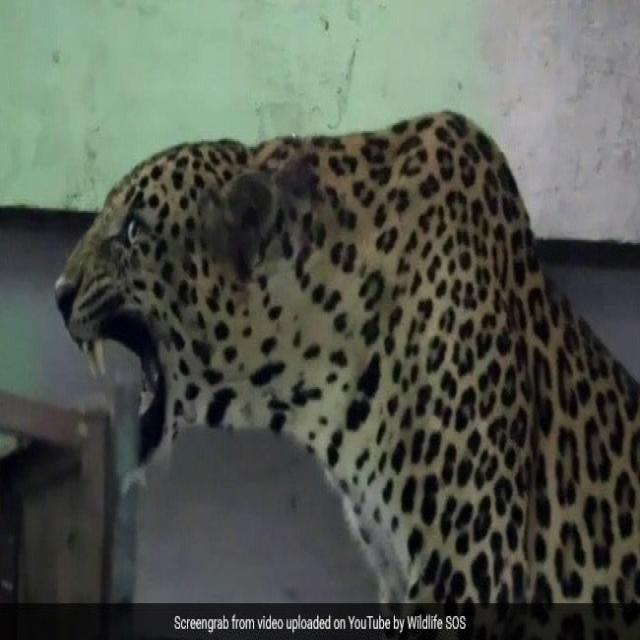Leopard: (47, 108, 640, 600)
